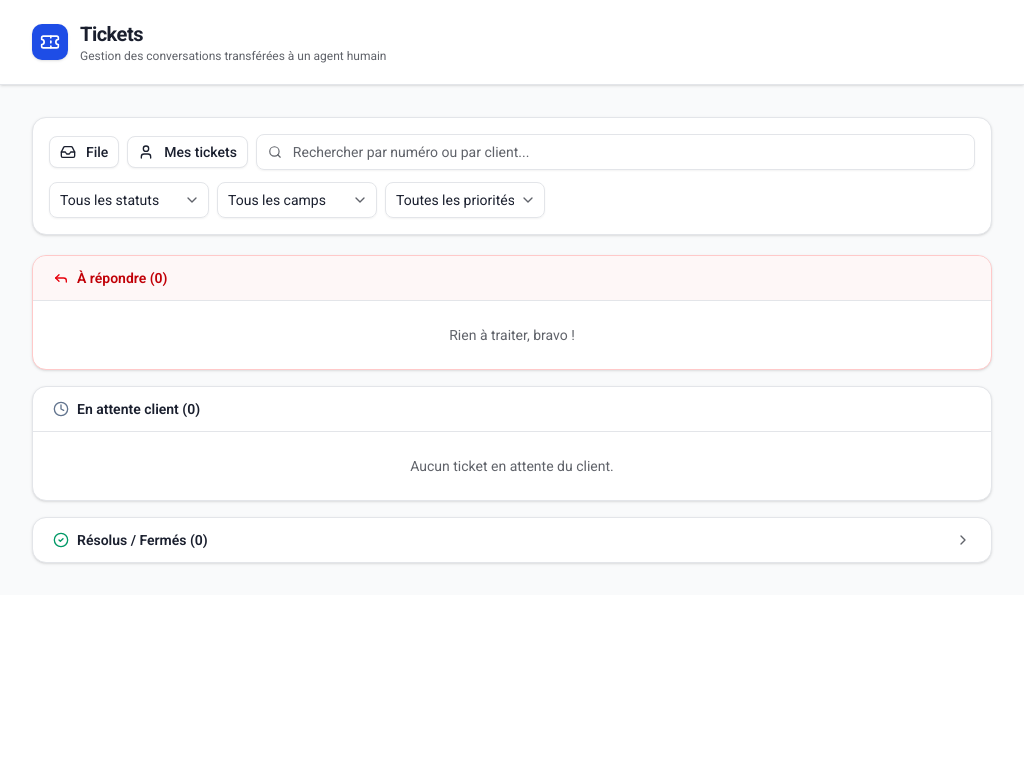
Test: TicketsListPage — filtre explicite ou recherche : retour à la liste plate paginée › shows the flat empty state ('Aucun ticket.') once a status filter is applied
The width and height of the screenshot is (1024, 768).
Expected: the text "Rien à traiter, bravo !" is shown, x1=33 y1=300 x2=991 y2=369
Click the dropdown labelled "Tous les statuts": (129, 200) x1=49 y1=182 x2=209 y2=218
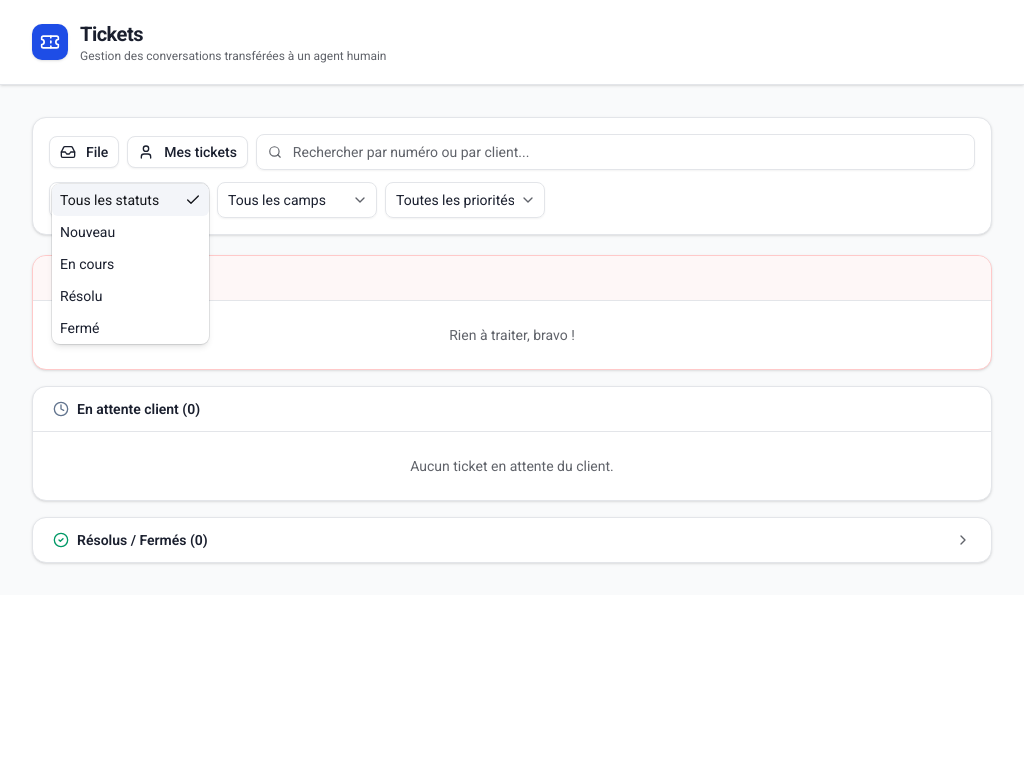
Click the option "En cours": (87, 264) x1=60 y1=256 x2=114 y2=272
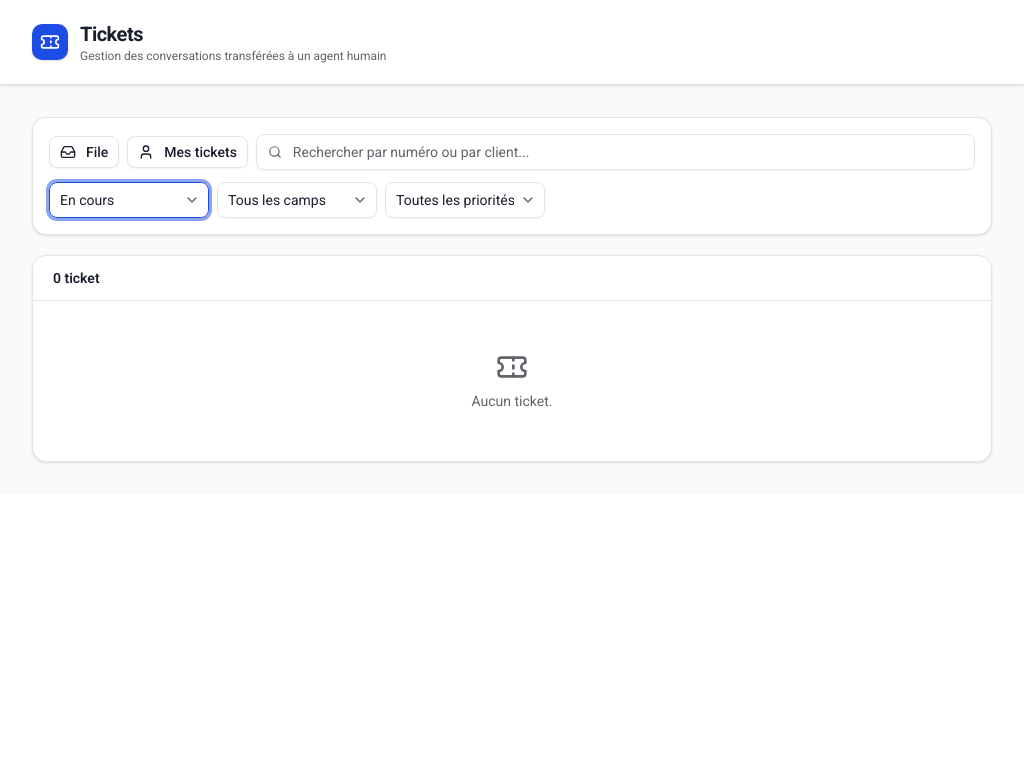
Expected: the text "Aucun ticket." is shown, x1=472 y1=391 x2=552 y2=411
